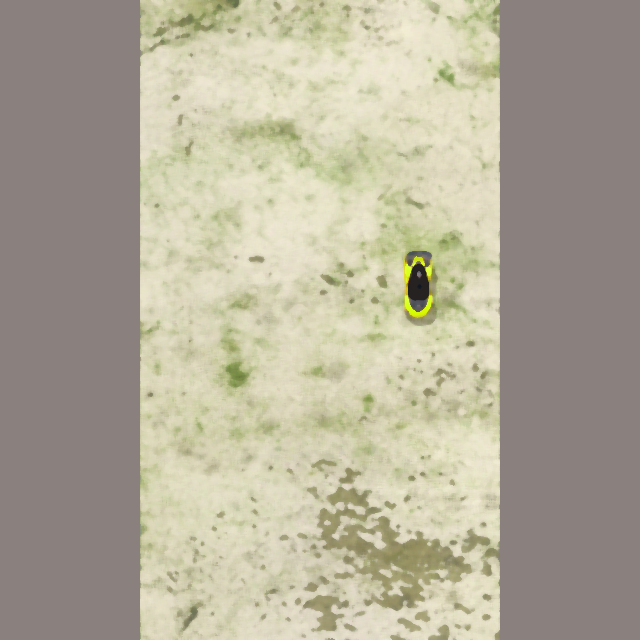car: (401, 250, 434, 318)
